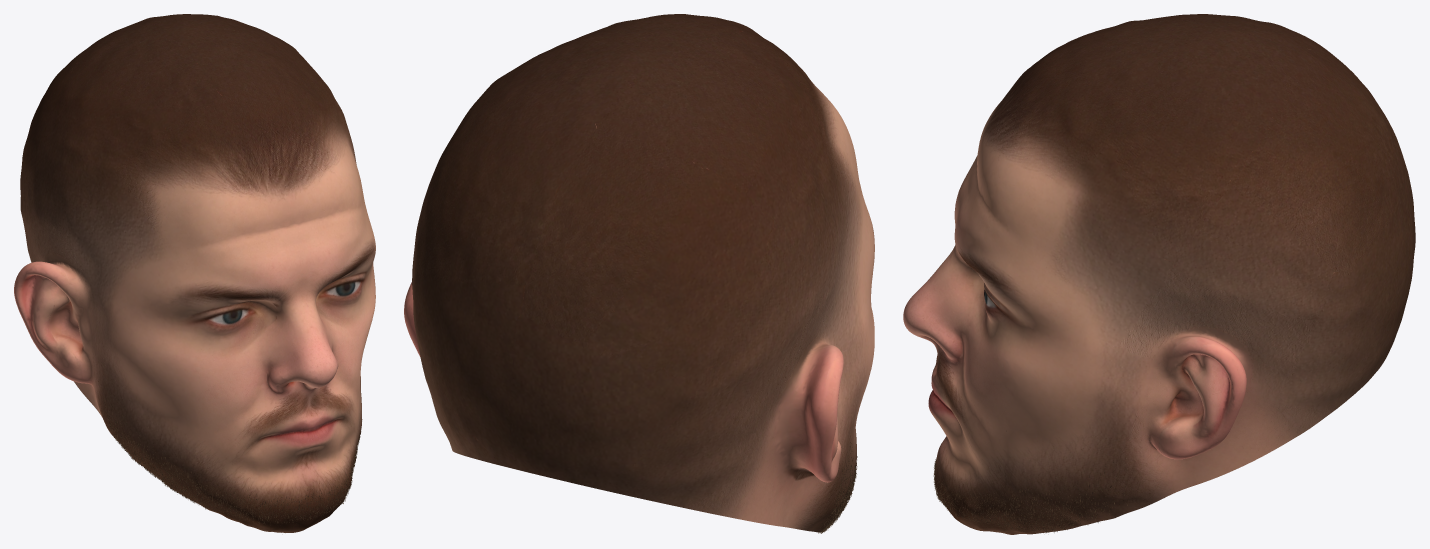
The model's file is head-beard-web-v2.glb.
3 views of the same model, side by side, from view 1: azimuth 30°, elevation 25°; view 2: azimuth 150°, elevation 25°; view 3: azimuth 270°, elevation 25° (orthographic). The views are drawn at different scales.
Visible parts, largest first — view 1: Head rotation pivot, Beard_Hairs; view 2: Head rotation pivot, Beard_Hairs; view 3: Head rotation pivot, Beard_Hairs.
Boxes of the visible parts, x1,y1,x2,y2 form: Head rotation pivot: (14, 14, 375, 532); Beard_Hairs: (103, 391, 361, 525); Head rotation pivot: (404, 14, 874, 532); Beard_Hairs: (818, 442, 857, 533); Head rotation pivot: (903, 14, 1415, 534); Beard_Hairs: (933, 458, 1128, 532).
Bounding box in the file's own units: 2.06 × 2.55 × 2.4.
Materials: 5 (1 with a texture image).
